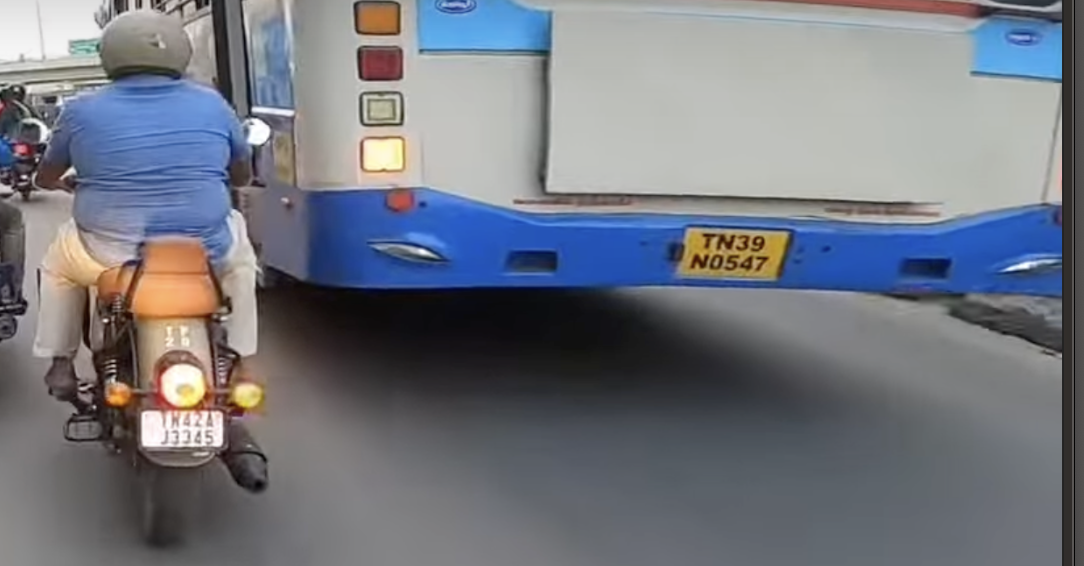motor: (23, 148, 288, 543)
number: (138, 405, 229, 452)
with helmet: (97, 11, 200, 81)
